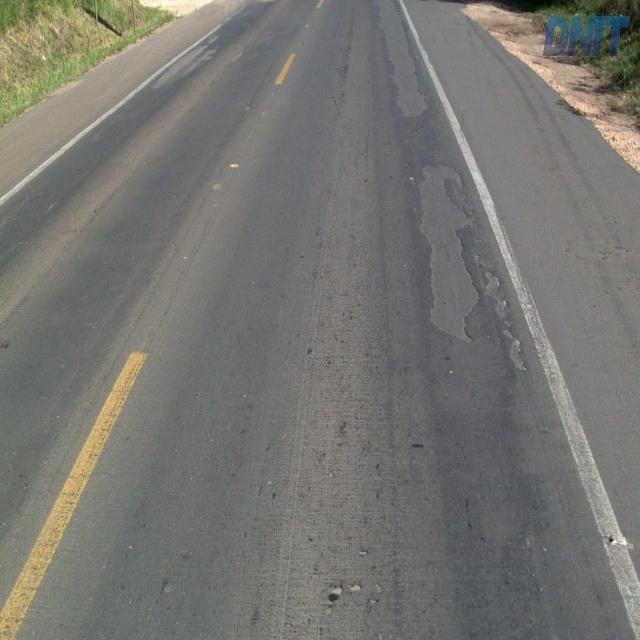pothole: (414, 152, 528, 380), (368, 0, 431, 121)
